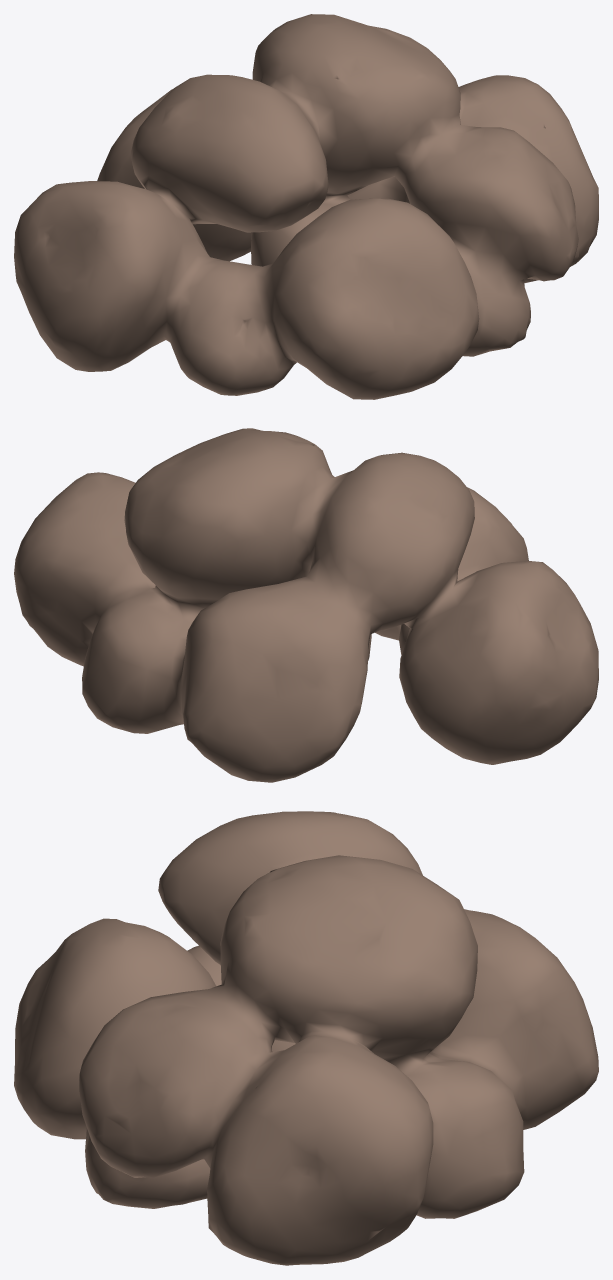
The model's file is clump.glb.
3 views of the same model, one above another, from view 1: azimuth 30°, elevation 25°; view 2: azimuth 150°, elevation 25°; view 3: azimuth 270°, elevation 25° (orthographic). The views are drawn at different scales.
Parts seen in each view (by area): view 1: clump; view 2: clump; view 3: clump.
Part boxes in pixels (x1,y1,x2,y2): clump: (14,14,598,399); clump: (14,428,598,782); clump: (14,811,598,1265).
Bounding box in the file's own units: 1.93 × 0.9007 × 1.59.
